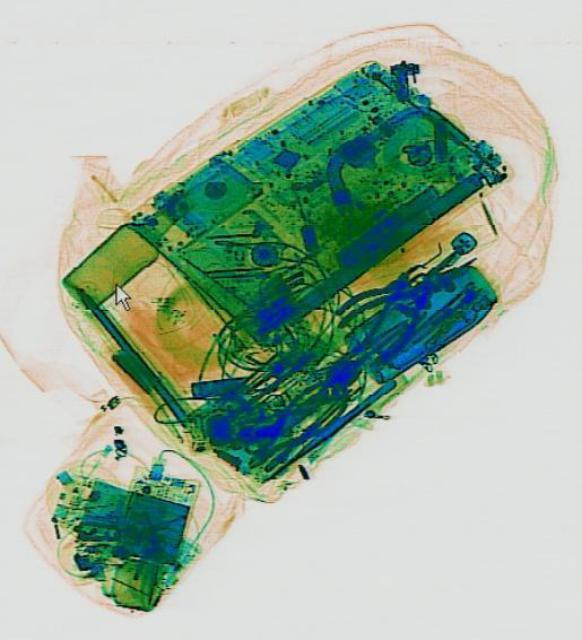Pliers: (331, 220, 482, 370), (230, 370, 350, 482), (324, 246, 436, 352)
